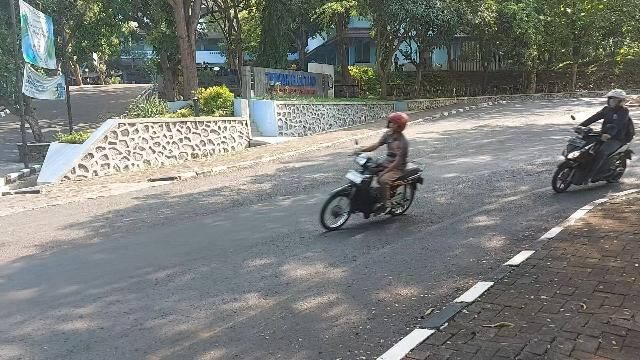helm: (386, 113, 410, 133), (607, 91, 628, 109)
motor: (322, 140, 426, 232), (553, 116, 636, 194)
